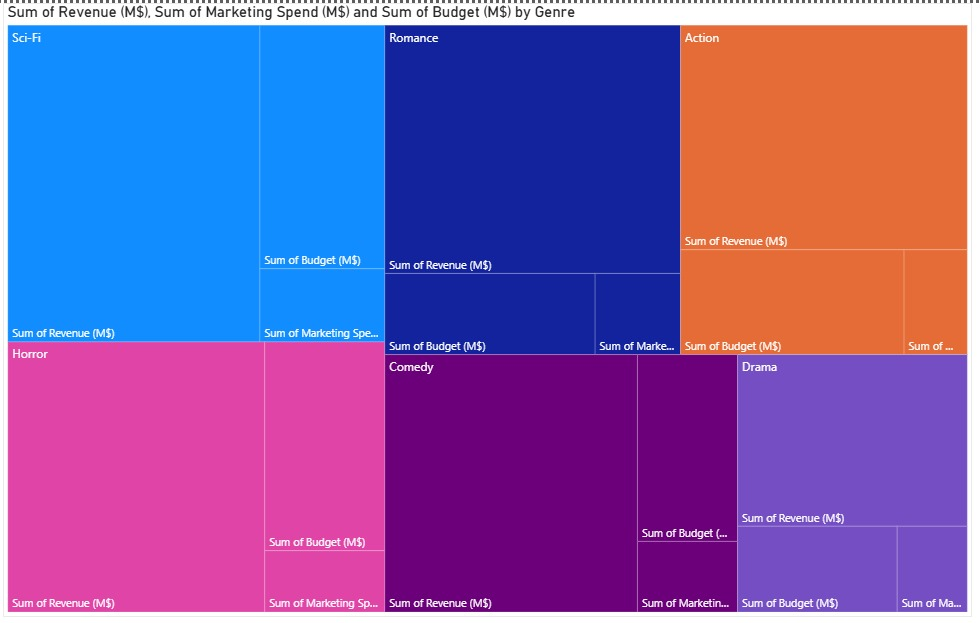

The page's visual inventory and layout, read from the dashboard file:
{"tool":"powerbi","page":{"name":"Page 2","canvas":[1280,720],"ordinal":1},"visuals":[{"type":"treemap","fields":{"Group":["cleaned_movies_dataset.Genre"],"Values":["Sum(cleaned_movies_dataset.Revenue (M$))","Sum(cleaned_movies_dataset.Marketing Spend (M$))","Sum(cleaned_movies_dataset.Budget (M$))"]},"box":[10,0,1076.7,681.7],"z":0}]}

Visuals, with their boxes on the page's 1280x720 design canvas (x1, y1, x2, y2). These are canvas units, not pixel positions in the 980x623 screenshot, which may show the page scaled, cropped or inside an application window:
treemap - cleaned_movies_dataset.Genre x Sum(cleaned_movies_dataset.Revenue (M$)): {"left": 10, "top": 0, "right": 1087, "bottom": 682}
